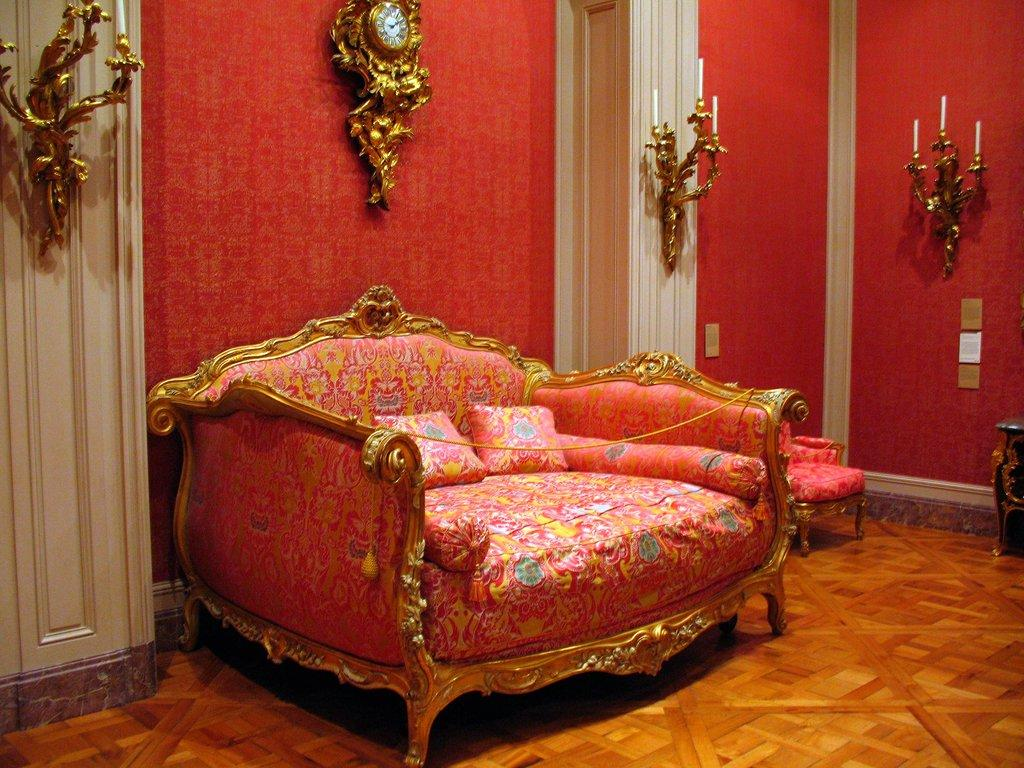Chair: (143, 276, 816, 766)
